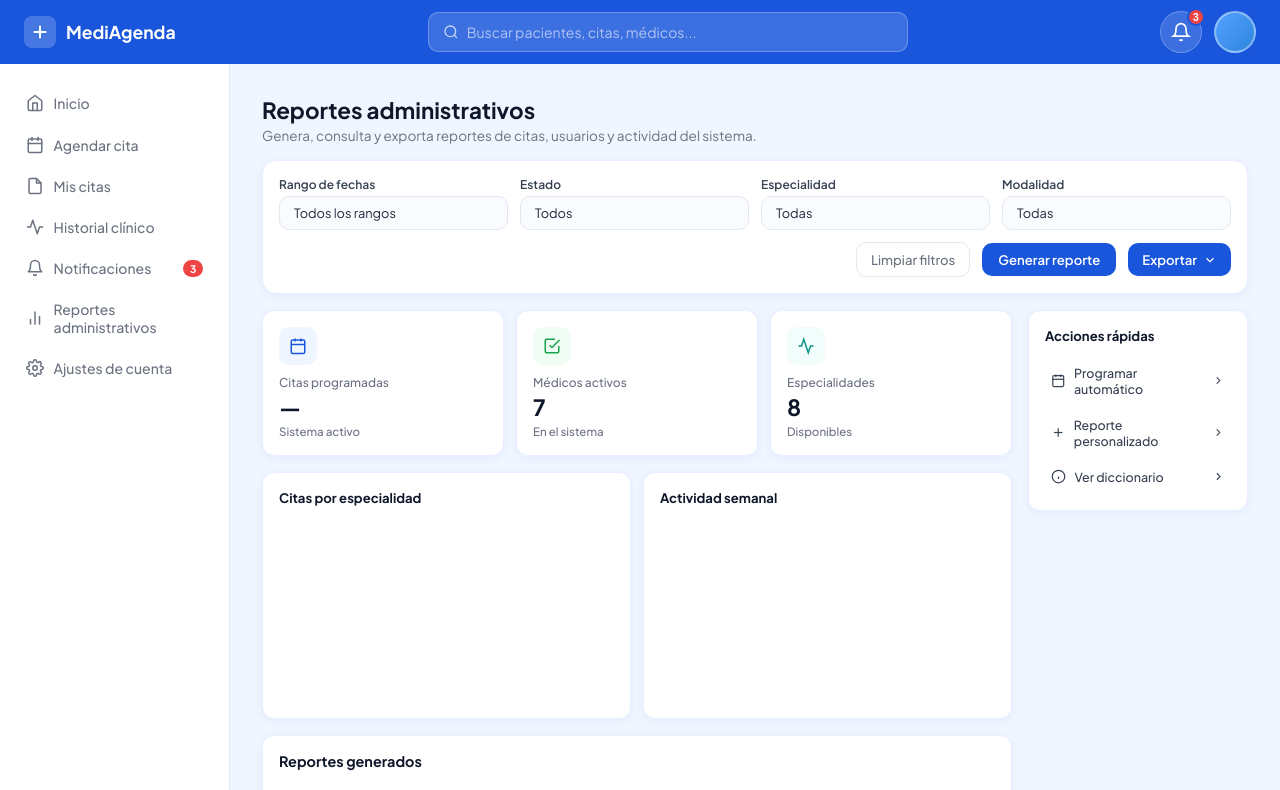
Test: Componente Reportes - MediAgenda › Integración con el backend › debe mostrar alerta de error si el backend falla
Click the button "Generar reporte" at (1049, 260), box [982, 243, 1116, 276]
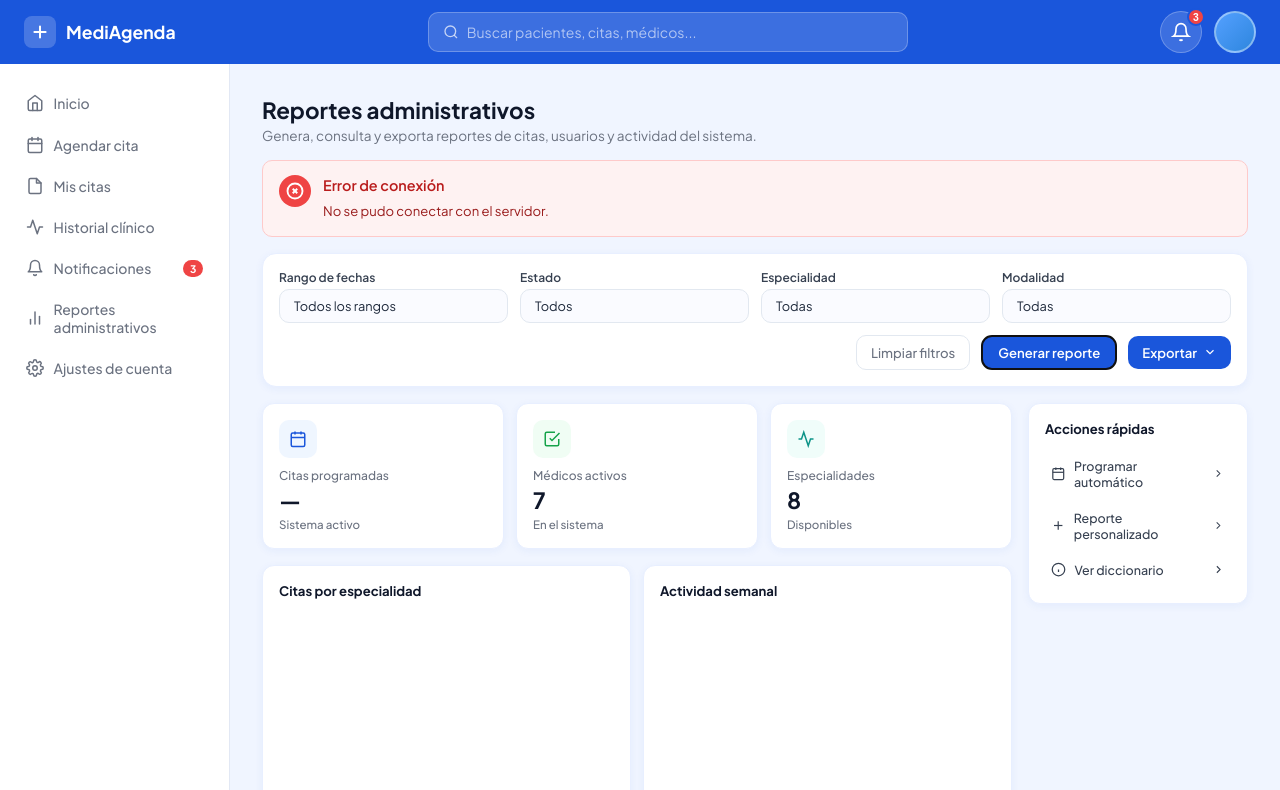
expect the text "Error de conexión" is shown: met, box [323, 176, 444, 194]
